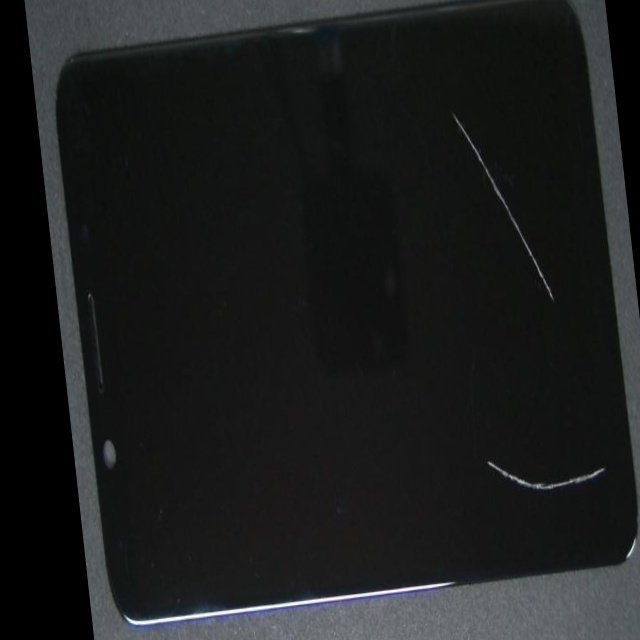scratch: (389, 188, 640, 640), (346, 194, 640, 384)
